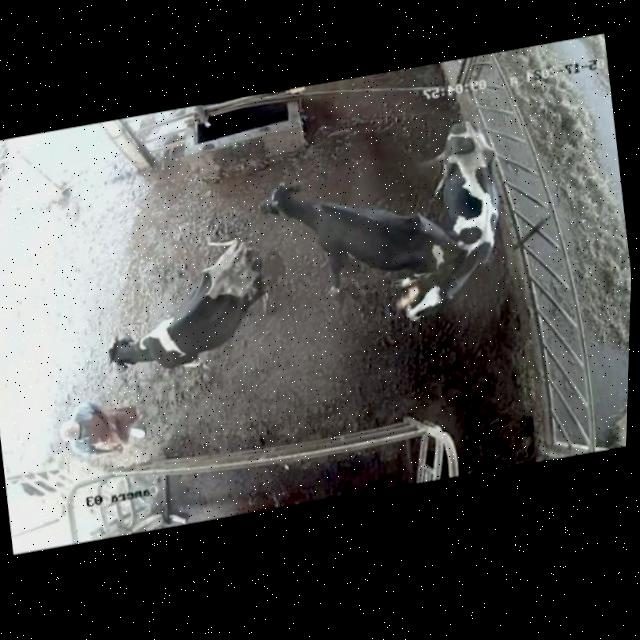stand: (83, 208, 284, 400), (257, 140, 462, 317), (375, 114, 527, 340)
